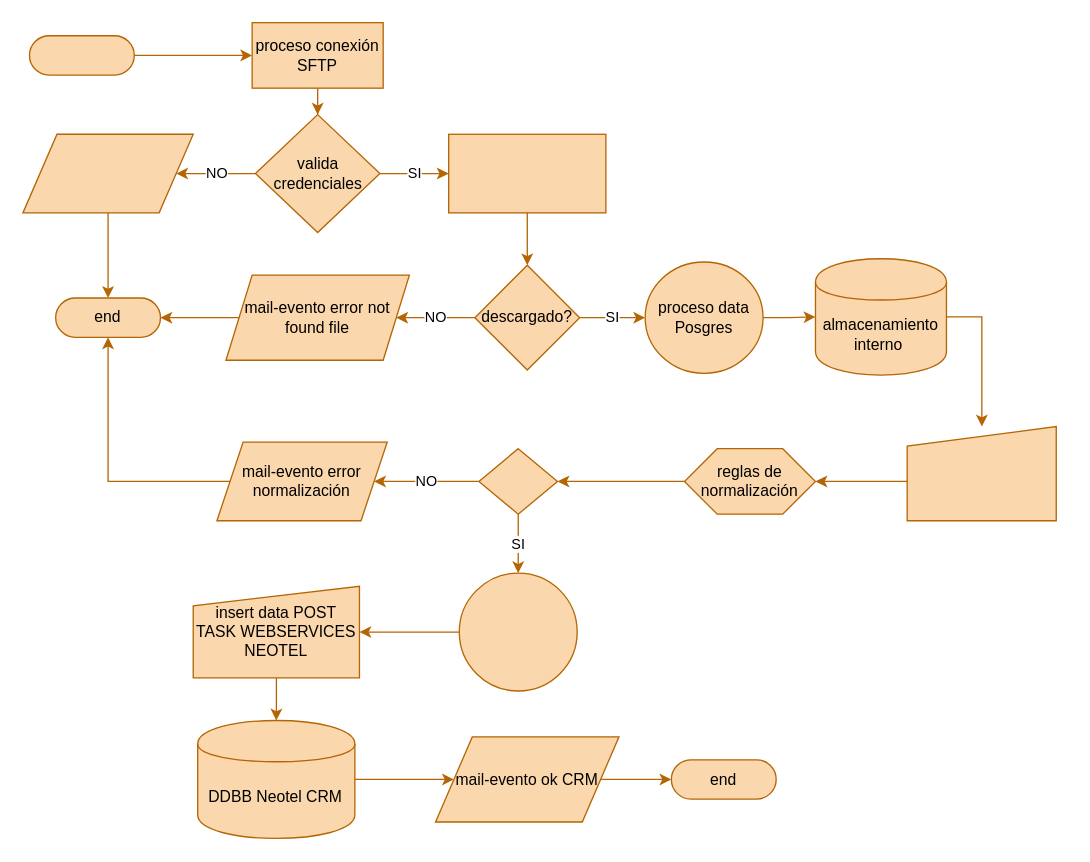
Some shapes in this 1090 by 862 pixel diagram are drawn without their labels. The shapes that lost their labels are listed below. From the top down, each one's box as (x1, y1, x2, y2) in pixels, then its label:
(28, 34, 134, 75): start
(22, 133, 193, 213): mail-evento error credenciales
(447, 133, 606, 213): proceso descarga de archivo
(478, 447, 558, 514): es correcto
(906, 425, 1056, 521): normalización data
(458, 572, 577, 691): Proceso data Neotel
